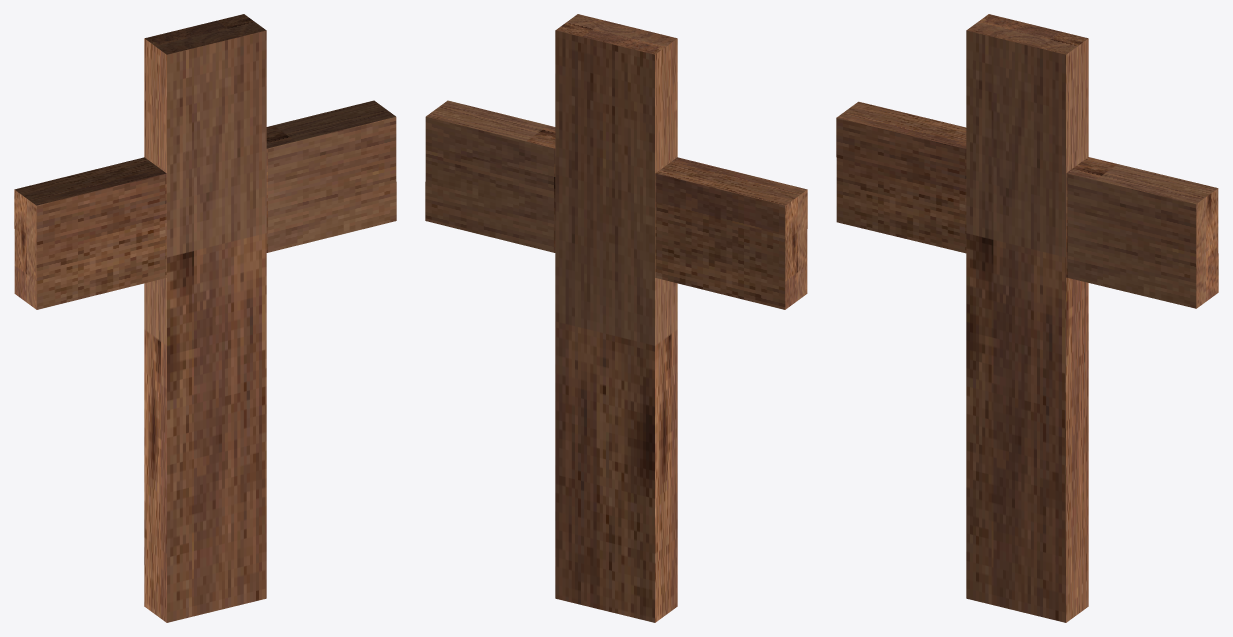
The model's file is PSXCross.fbx.
The picture shows the model from 3 angles, left to right: view 1: azimuth 30°, elevation 25°; view 2: azimuth 150°, elevation 25°; view 3: azimuth 330°, elevation 25°; orthographic projection.
Visible parts, largest first — view 1: obj2, obj1; view 2: obj2, obj1; view 3: obj2, obj1.
Part boxes in pixels (box(x1,y1,x2,y2)): obj2: box(144, 14, 266, 622); obj1: box(14, 100, 396, 309); obj2: box(555, 14, 677, 622); obj1: box(425, 100, 807, 309); obj2: box(966, 14, 1088, 622); obj1: box(836, 101, 1218, 308).
Bounding box in the file's own units: 74.59 × 112 × 8.05.
2 materials, 2 textured.
